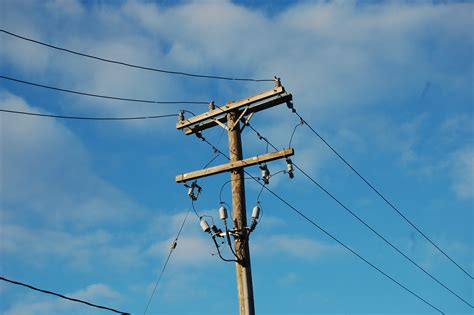pole: (158, 77, 317, 315)
